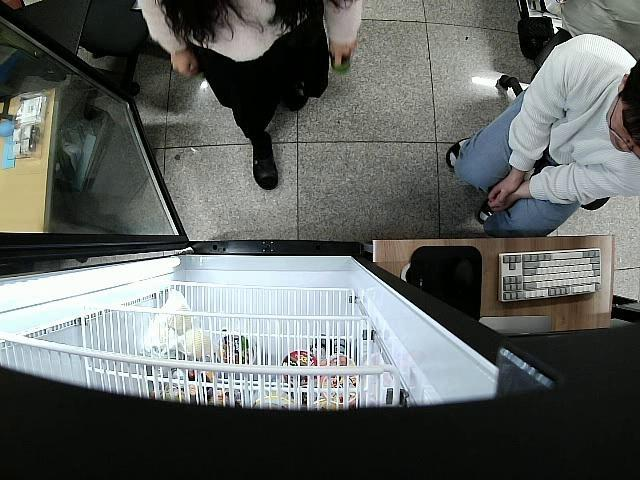19_17cha: (330, 51, 350, 74)
